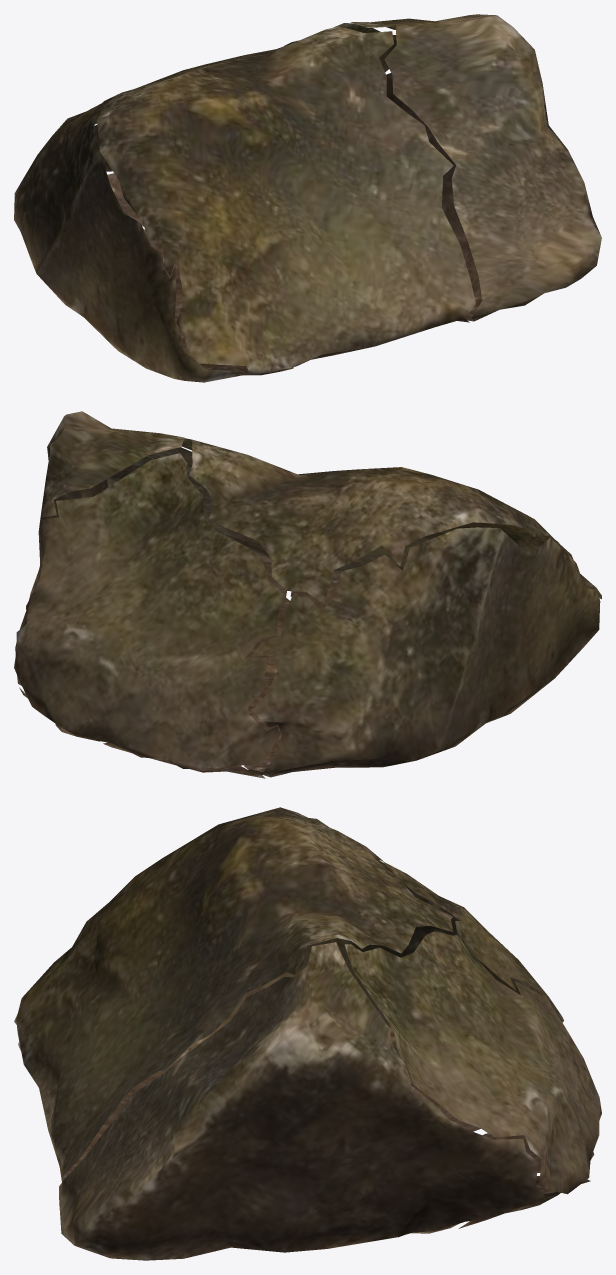
Rendered from rock_moss_set_01_rock03.glb.
3 renders of one model, top to bottom at view 1: azimuth 30°, elevation 25°; view 2: azimuth 150°, elevation 25°; view 3: azimuth 270°, elevation 25°, orthographic. The views are drawn at different scales.
Parts seen in each view (by area): view 1: rock_moss_set_01_rock03; view 2: rock_moss_set_01_rock03; view 3: rock_moss_set_01_rock03.
Boxes of the visible parts, box(x1,y1,x2,y2) form: rock_moss_set_01_rock03: box(14, 14, 601, 382); rock_moss_set_01_rock03: box(14, 411, 601, 778); rock_moss_set_01_rock03: box(14, 807, 601, 1260).
Size of the model in its own units: 2.08 by 1.08 by 2.07.
1 material, 1 textured.
